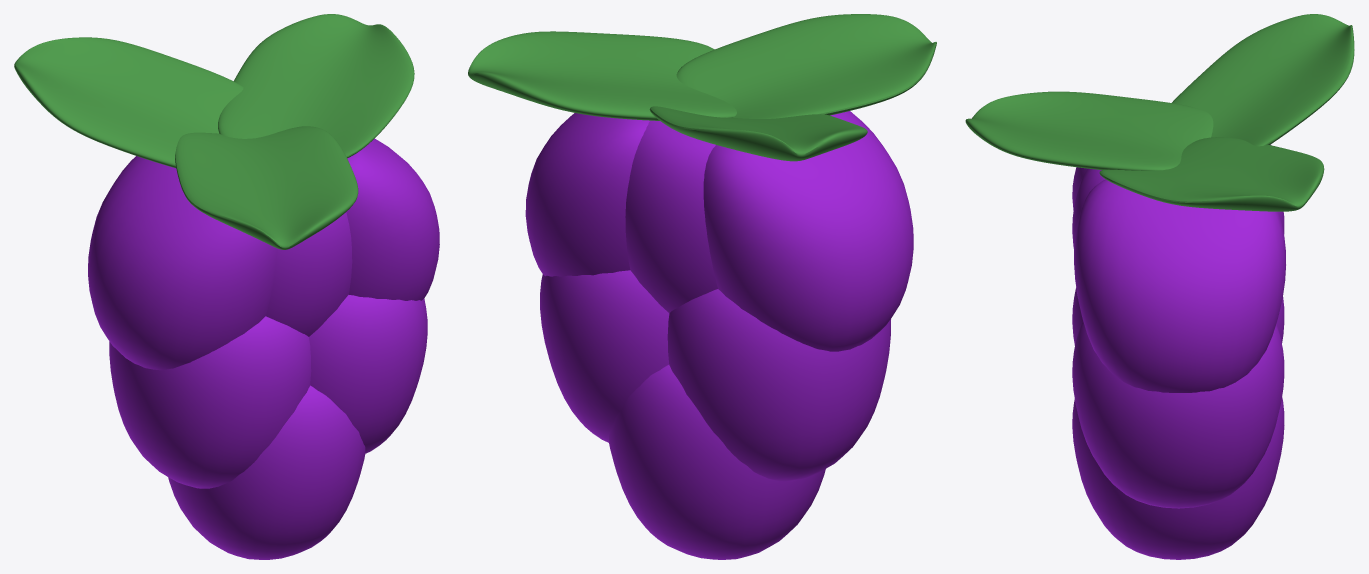
Rendered from PurpleBerries.fbx.
The picture shows the model from 3 angles, left to right: view 1: azimuth 30°, elevation 25°; view 2: azimuth 150°, elevation 25°; view 3: azimuth 270°, elevation 25°; orthographic projection. The views are drawn at different scales.
Visible parts, largest first — view 1: Berry.003, Berry.011, Leave.005, Leave.003, Berry.006, Leave.004, Berry.008, Berry.001, Berry.010; view 2: Berry.003, Berry.011, Berry.006, Leave.004, Leave.005, Berry.008, Berry.001, Berry.010, Leave.003; view 3: Berry.001, Berry.008, Leave.004, Leave.003, Berry.006, Leave.005, Berry.010, Berry.011.
Boxes of the visible parts, x1,y1,x2,y2 form: Berry.003: [88, 156, 277, 370]; Berry.011: [109, 316, 311, 488]; Leave.005: [218, 14, 414, 158]; Leave.003: [14, 37, 243, 167]; Berry.006: [168, 385, 365, 559]; Leave.004: [175, 126, 358, 249]; Berry.008: [309, 295, 427, 453]; Berry.001: [346, 138, 439, 300]; Berry.010: [266, 212, 352, 336]; Berry.003: [703, 111, 913, 351]; Berry.011: [667, 289, 890, 481]; Berry.006: [609, 364, 825, 559]; Leave.004: [676, 14, 936, 118]; Leave.005: [468, 31, 736, 120]; Berry.008: [540, 270, 669, 442]; Berry.001: [525, 113, 649, 276]; Berry.010: [625, 120, 717, 312]; Leave.003: [649, 106, 867, 161]; Berry.001: [1074, 179, 1285, 392]; Berry.008: [1072, 321, 1284, 508]; Leave.004: [965, 91, 1213, 170]; Leave.003: [1172, 14, 1354, 146]; Berry.006: [1072, 397, 1284, 559]; Leave.005: [1099, 137, 1324, 211]; Berry.010: [1072, 168, 1284, 249]; Berry.011: [1072, 287, 1284, 345].
Size of the model in its own units: 146 by 191 by 146.
